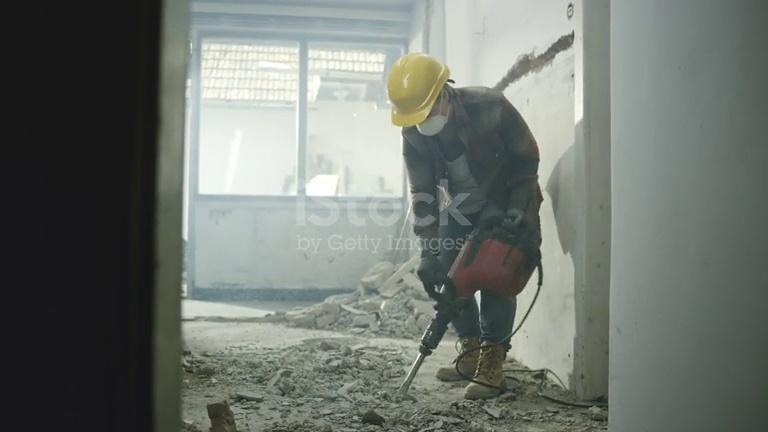helmet: (387, 52, 450, 127)
mask: (414, 105, 446, 136)
person: (387, 54, 542, 401)
